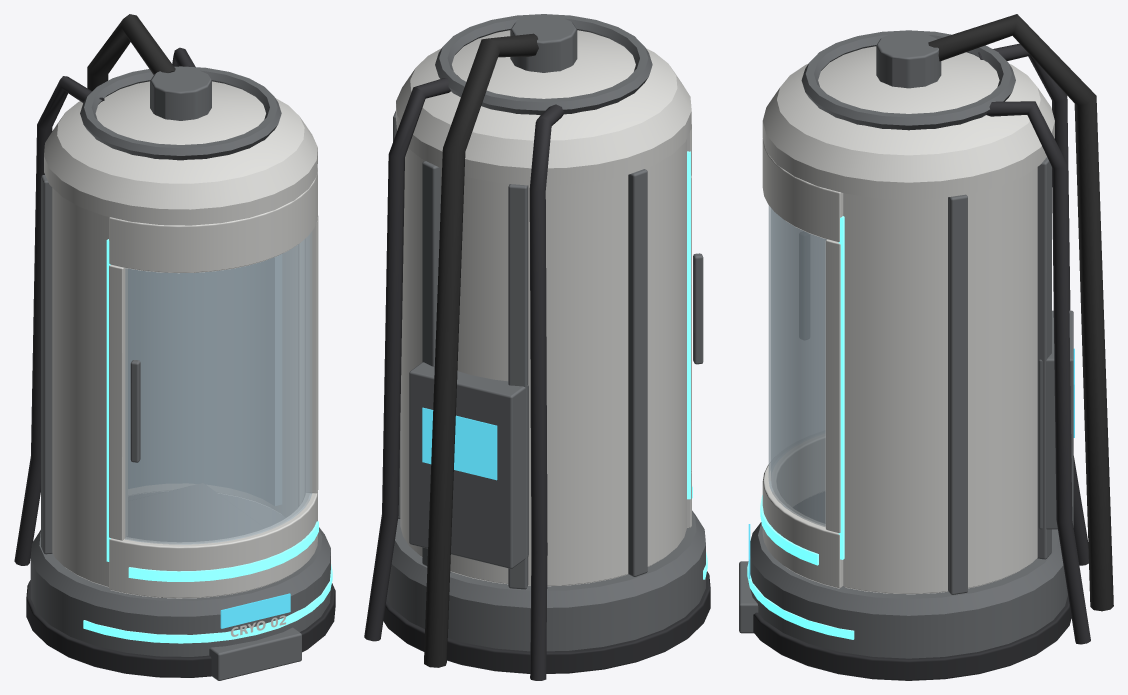
File: cryo_pod.glb
3 renders of one model, left to right at view 1: azimuth 30°, elevation 25°; view 2: azimuth 150°, elevation 25°; view 3: azimuth 270°, elevation 25°, orthographic. The views are drawn at different scales.
Parts seen in each view (by area): view 1: cryo_pod, Lid; view 2: cryo_pod, Lid; view 3: cryo_pod, Lid.
Part boxes in pixels (x1,y1,x2,y2): cryo_pod: [14, 14, 335, 680]; Lid: [109, 167, 318, 598]; cryo_pod: [364, 14, 710, 680]; Lid: [687, 124, 703, 527]; cryo_pod: [739, 14, 1113, 680]; Lid: [760, 139, 843, 588].
Bounding box in the file's own units: 1.4 × 2.8 × 1.59.
Materials: 10 (1 with a texture image).
